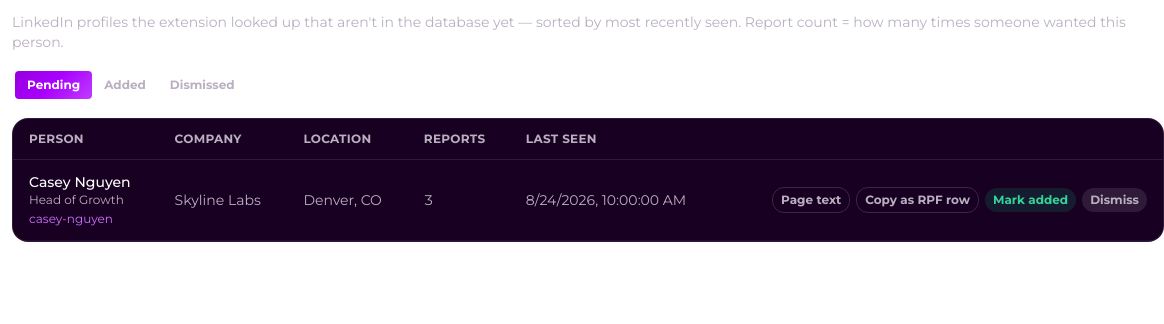
Test case: AdminPendingPeoples › lists pending profiles with demand counts and page-text expander
This screenshot has width=1164, height=324.
expect the text "Casey Nguyen" is shown: met, box [29,172,143,192]
expect the text "Skyline Labs" is shown: met, box [159,160,287,240]
Click the button "Page text" at {"x": 811, "y": 200}, box [772,187,850,213]
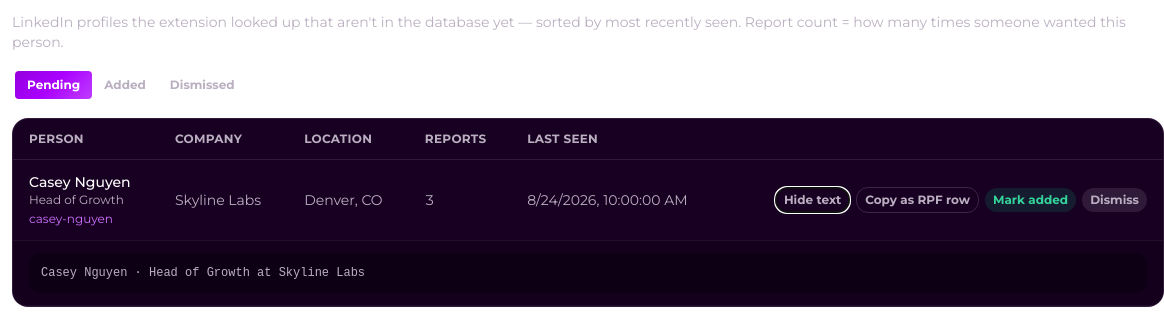
expect the text "Casey Nguyen · Head of Growth at Skyline Labs" is shown: met, box [29,253,1147,293]
